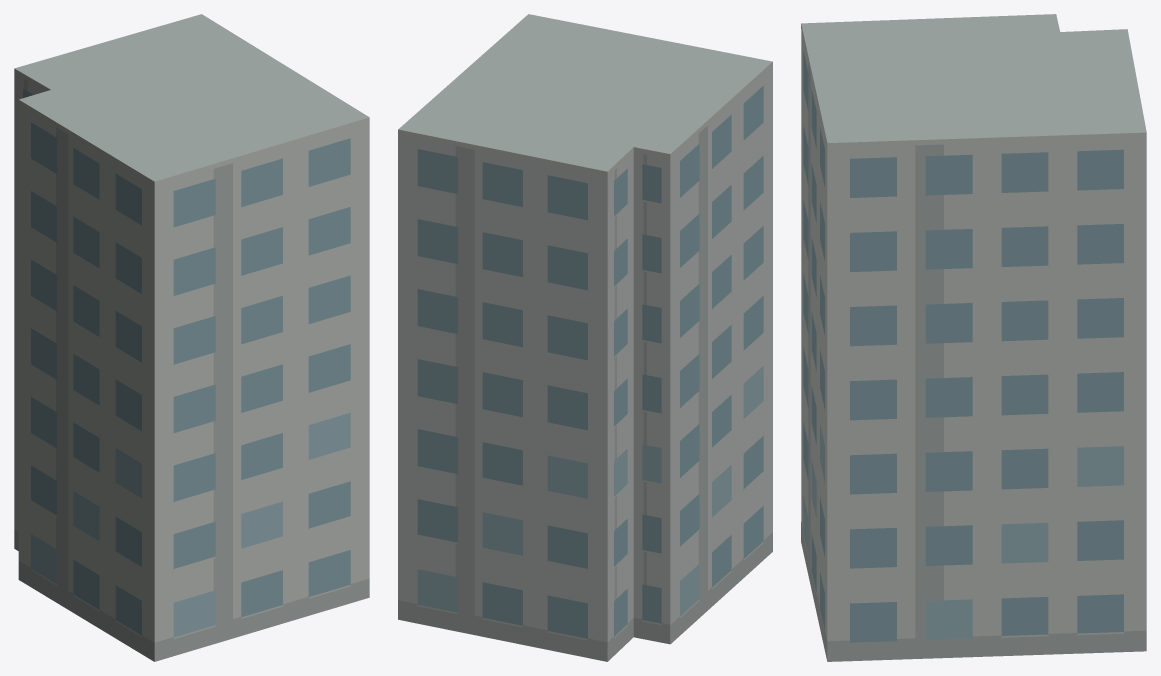
Rendered from survey-upis-32557606.glb.
3 renders of one model, left to right at view 1: azimuth 30°, elevation 25°; view 2: azimuth 150°, elevation 25°; view 3: azimuth 270°, elevation 25°, orthographic. The views are drawn at different scales.
Parts seen in each view (by area): view 1: survey-upis-32557606.tmp; view 2: survey-upis-32557606.tmp; view 3: survey-upis-32557606.tmp.
Boxes of the visible parts, <box> form: survey-upis-32557606.tmp: <box>14,14,369,661</box>; survey-upis-32557606.tmp: <box>398,14,772,661</box>; survey-upis-32557606.tmp: <box>801,14,1146,661</box>.
Size of the model in its own units: 12.88 by 24.1 by 14.56.
